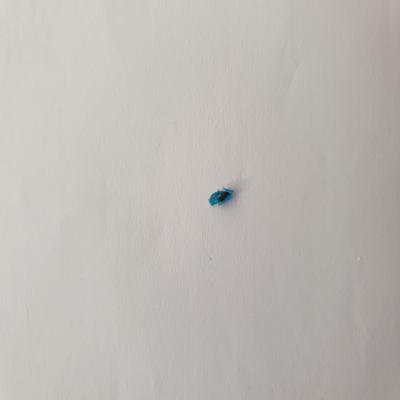plastic: (207, 187, 234, 208)
